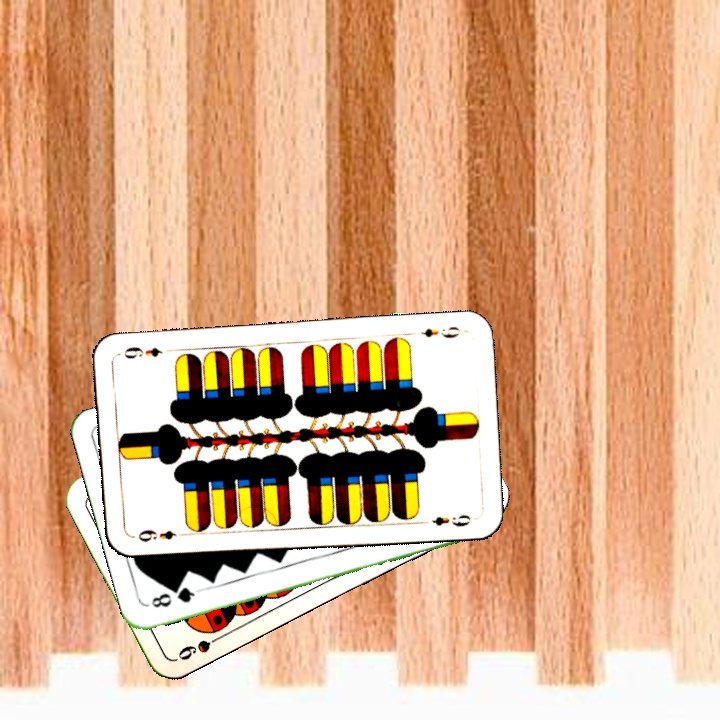E9: (134, 526, 187, 544), (417, 323, 466, 341)
G8: (147, 582, 203, 611)
S9: (173, 629, 228, 663)
